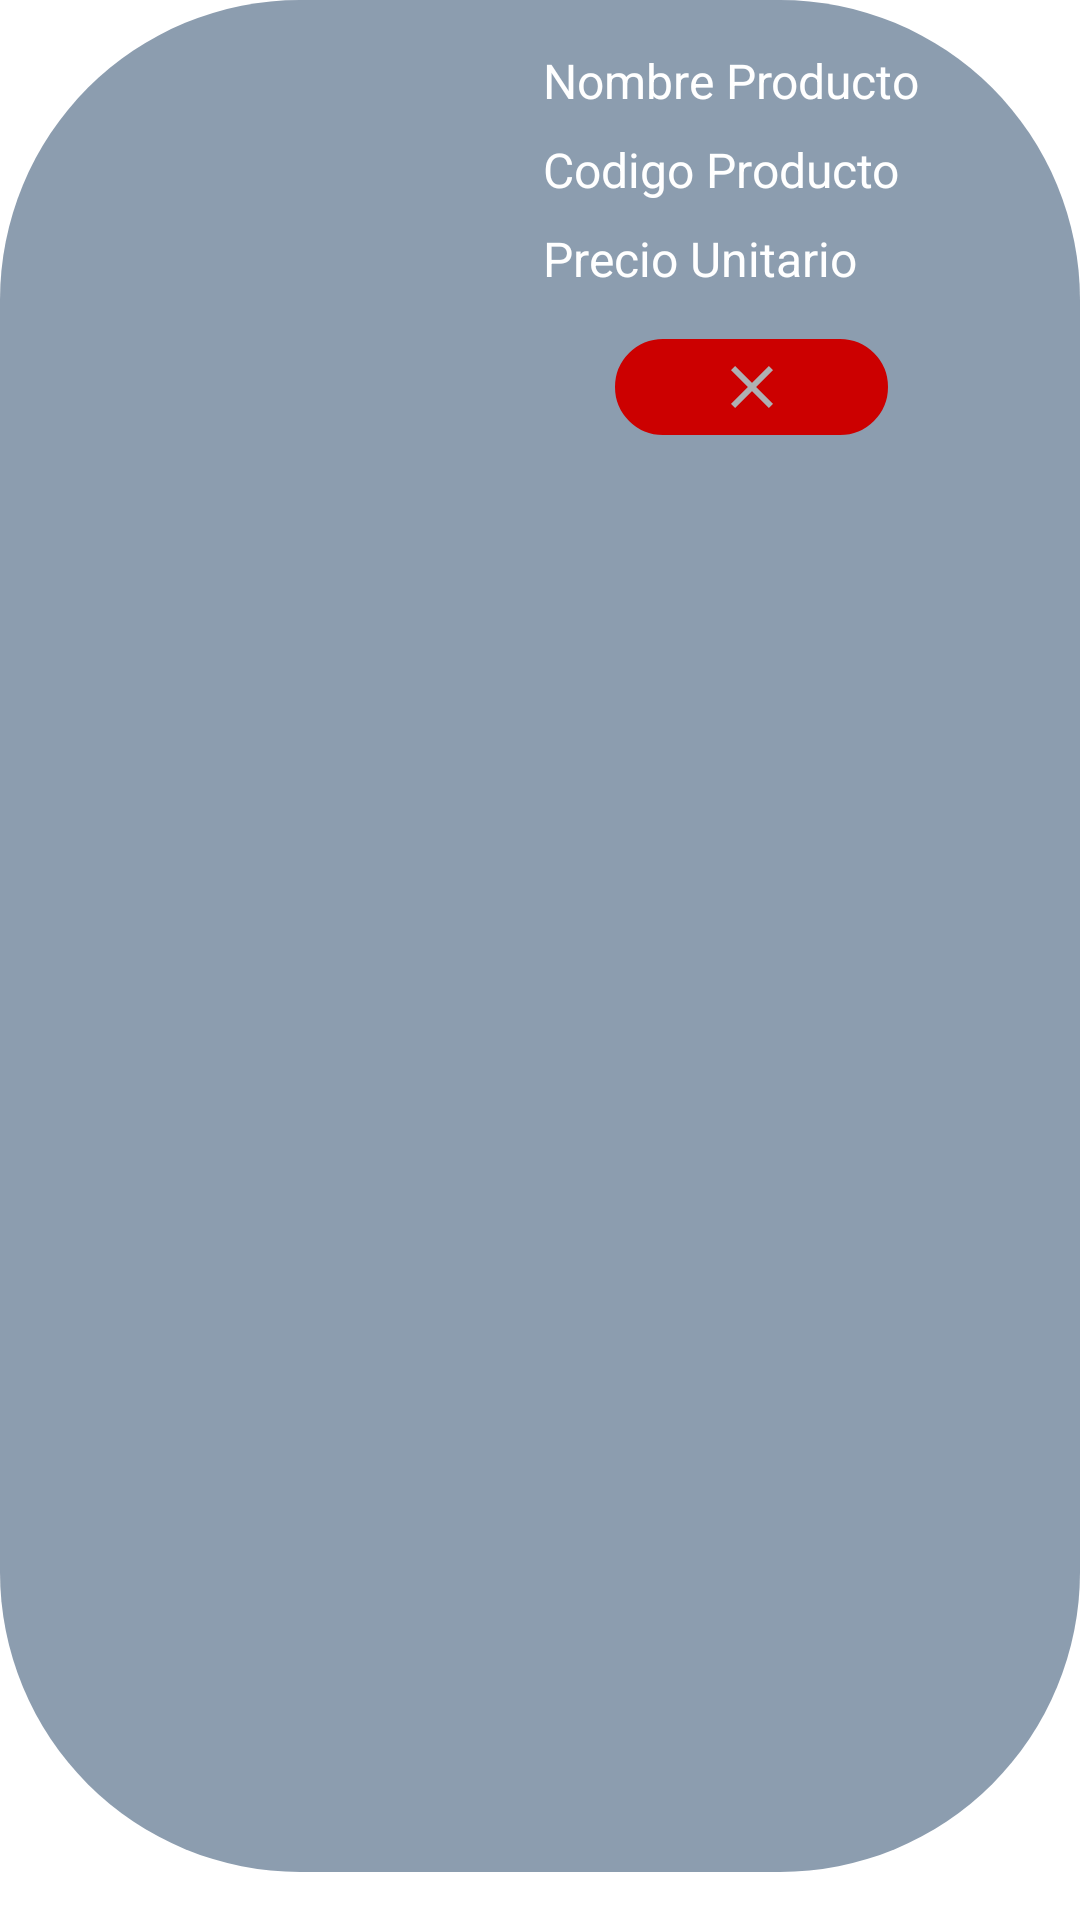

Where icons sit on this 1080w x 1920h app screen, as (left=x1, top=y1, right=x2, bottom=y2):
clear: (left=615, top=339, right=888, bottom=435)
